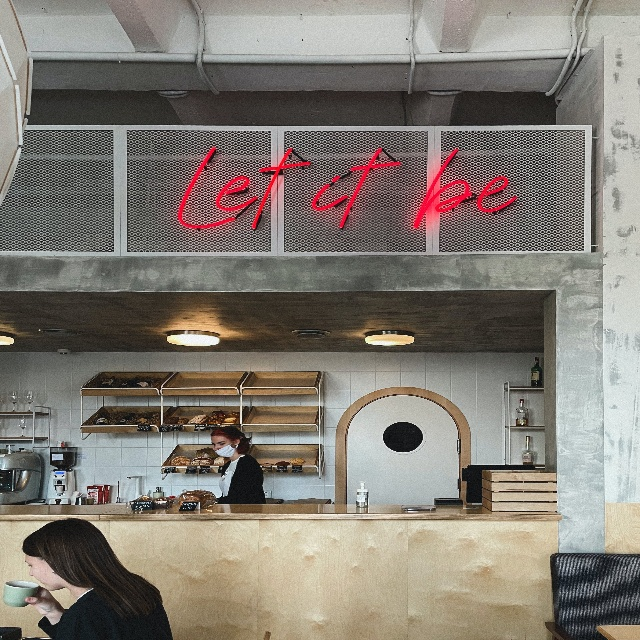Mascara: (213, 441, 238, 458)
Sin_guantes: (24, 585, 61, 620)
